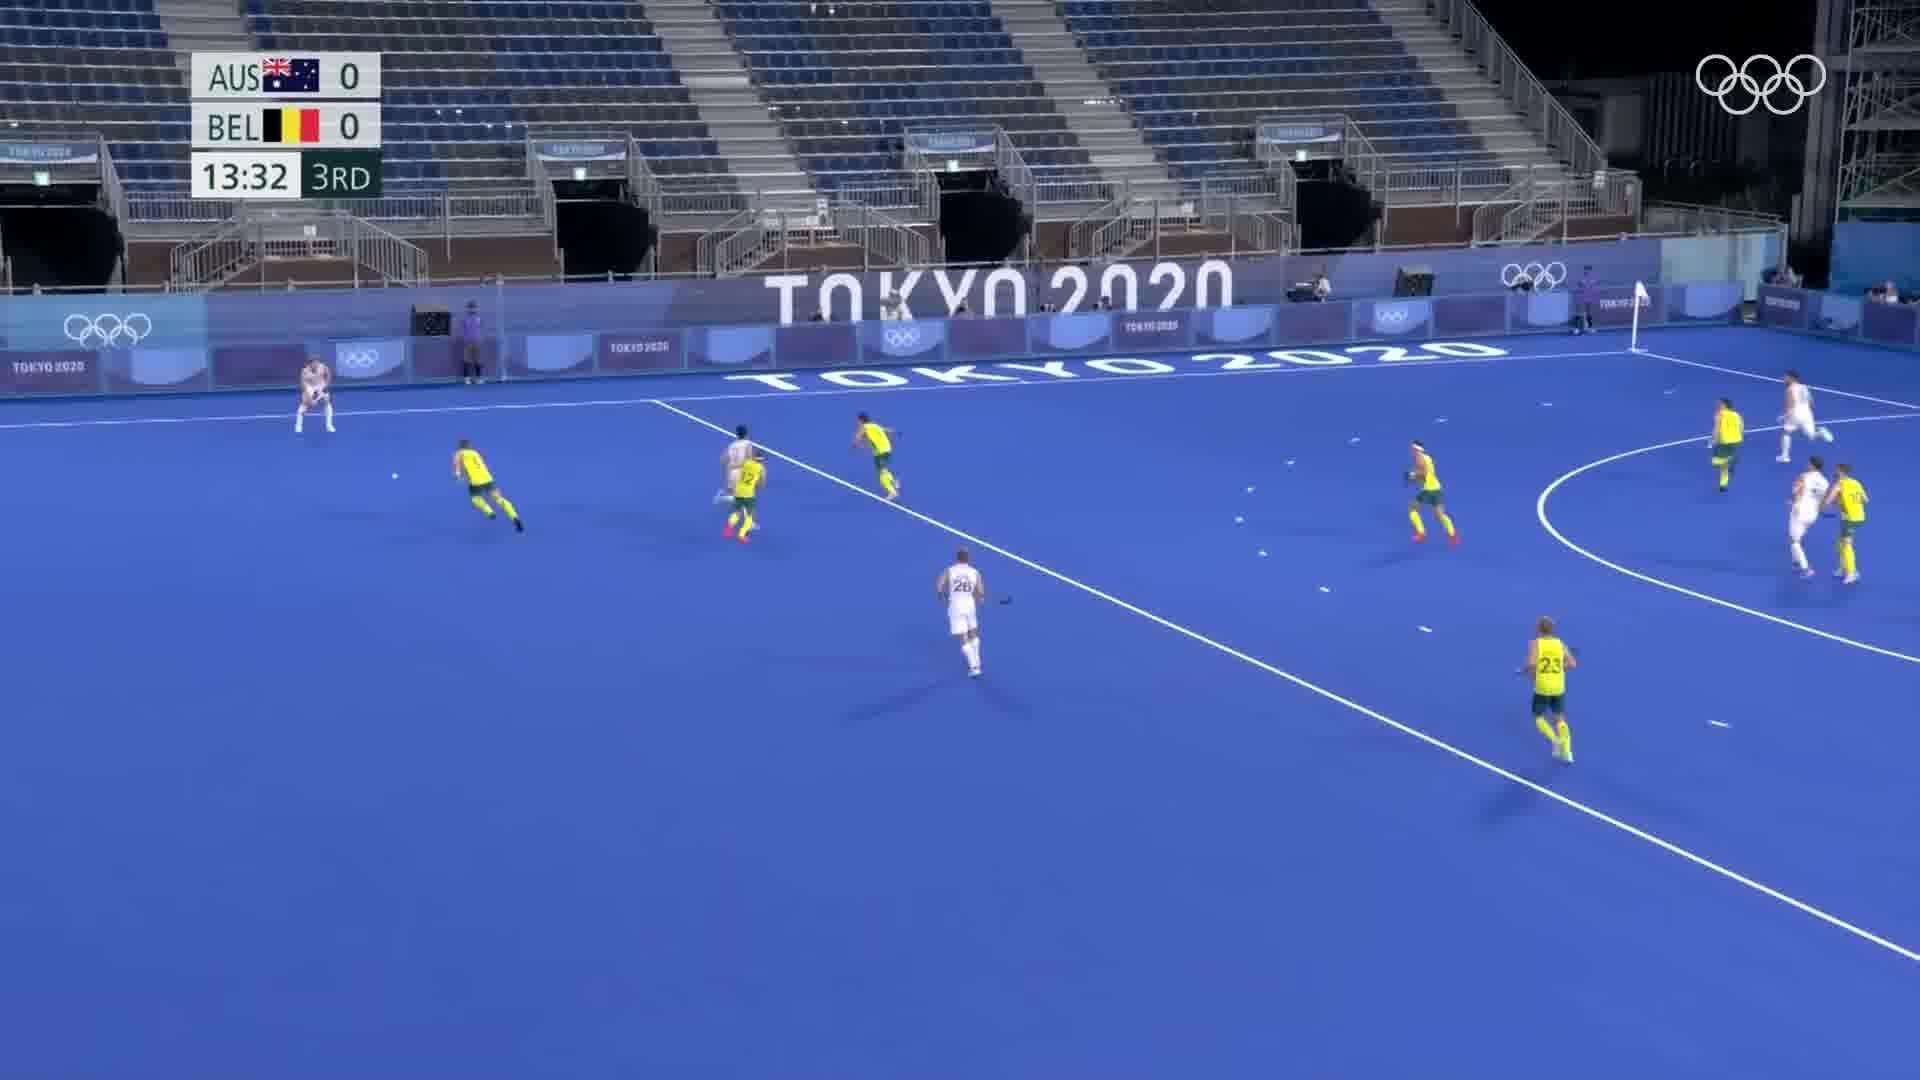ball: (386, 468, 401, 484)
